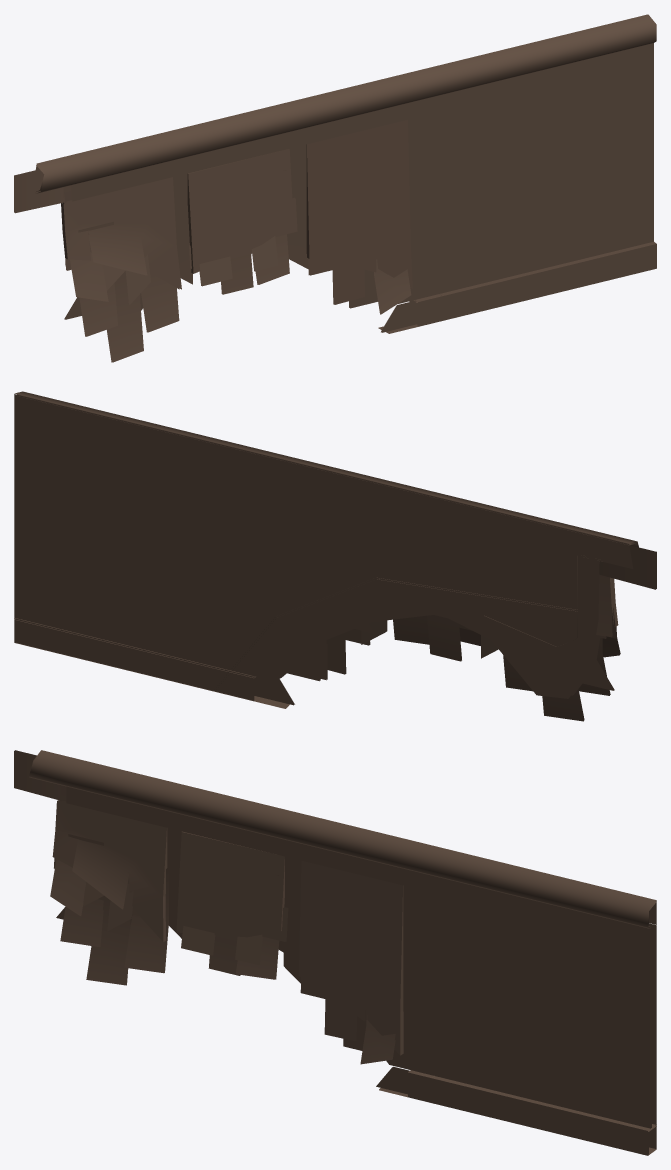
Rendered from DBK_Molding_Bottom_Side_A_Mirror.fbx.
3 views of the same model, one above another, from view 1: azimuth 30°, elevation 25°; view 2: azimuth 150°, elevation 25°; view 3: azimuth 330°, elevation 25° (orthographic).
Parts seen in each view (by area): view 1: DBK_Molding_Bottom_Side_A_Mirror; view 2: DBK_Molding_Bottom_Side_A_Mirror; view 3: DBK_Molding_Bottom_Side_A_Mirror.
Boxes of the visible parts, x1,y1,x2,y2 form: DBK_Molding_Bottom_Side_A_Mirror: [14, 14, 656, 362]; DBK_Molding_Bottom_Side_A_Mirror: [14, 391, 656, 721]; DBK_Molding_Bottom_Side_A_Mirror: [14, 750, 656, 1155].
Bounding box in the file's own units: 269 × 100 × 12.43.
